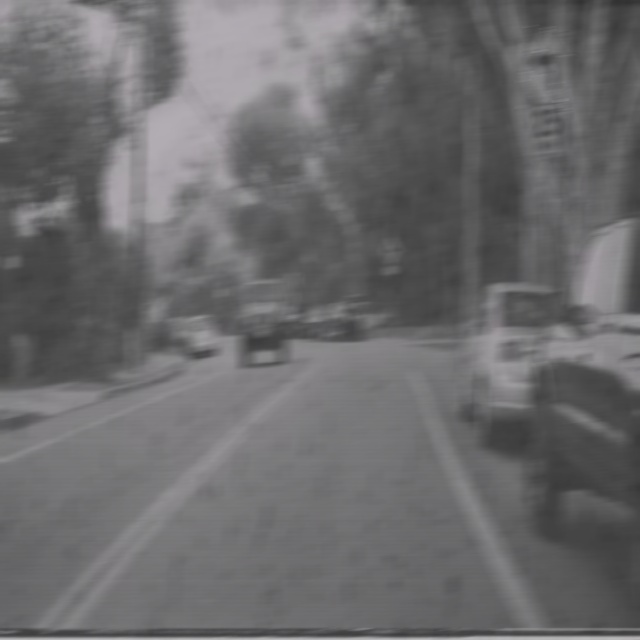turnLeft: (520, 25, 569, 117)
